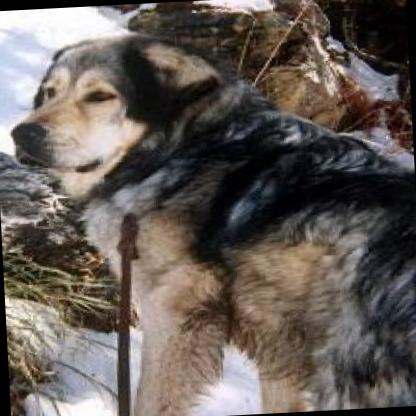Tibetan_mastiff: (1, 15, 416, 416)
